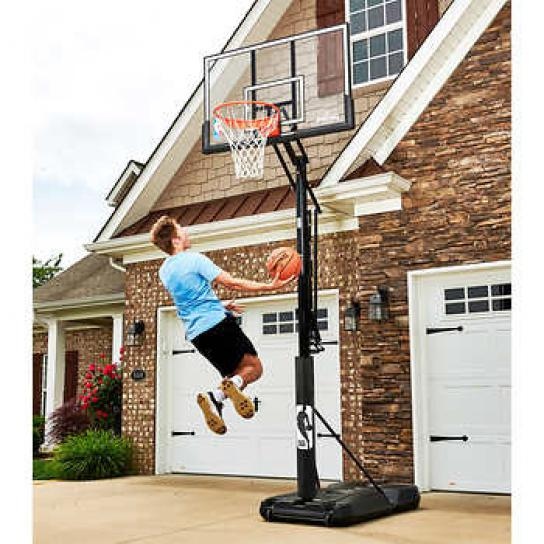basketball-hoop: (212, 100, 282, 182)
